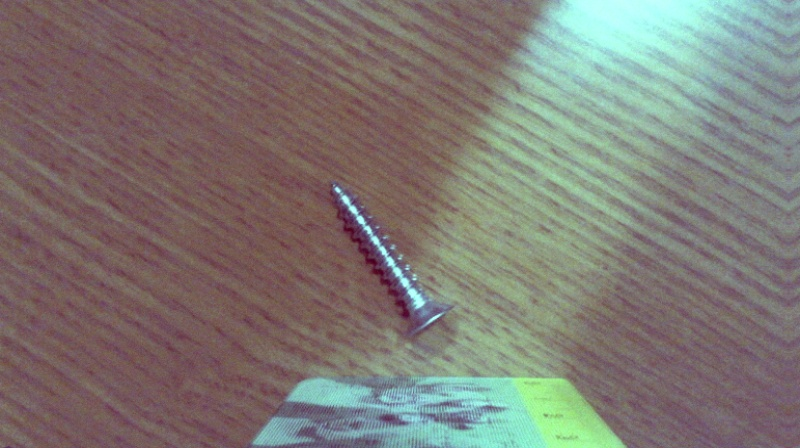S001: (322, 174, 458, 346)
